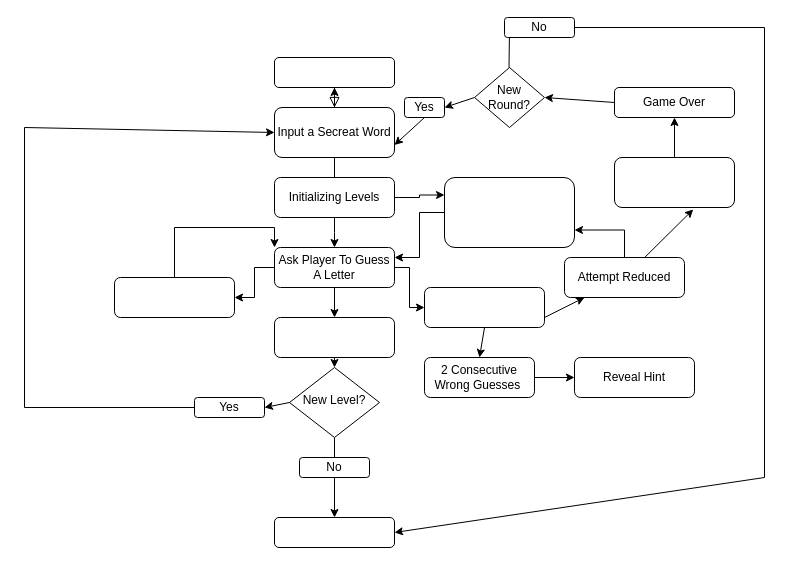
The diagram is 790 pixels wide and 565 high, and some of its shapes have lost their labels. The centre of each missing label's shape, as x and y in pixels:
"All The Letters are Guessed" goes at point (334, 337).
"Attempts == 6" goes at point (674, 182).
"Display ASCII Art According to Left Attempts ." goes at point (509, 212).
"End" goes at point (334, 532).
"Letter Is In Not In the Word" goes at point (484, 307).
"Letter Is In The Word" goes at point (174, 297).
"Start" goes at point (334, 72).
